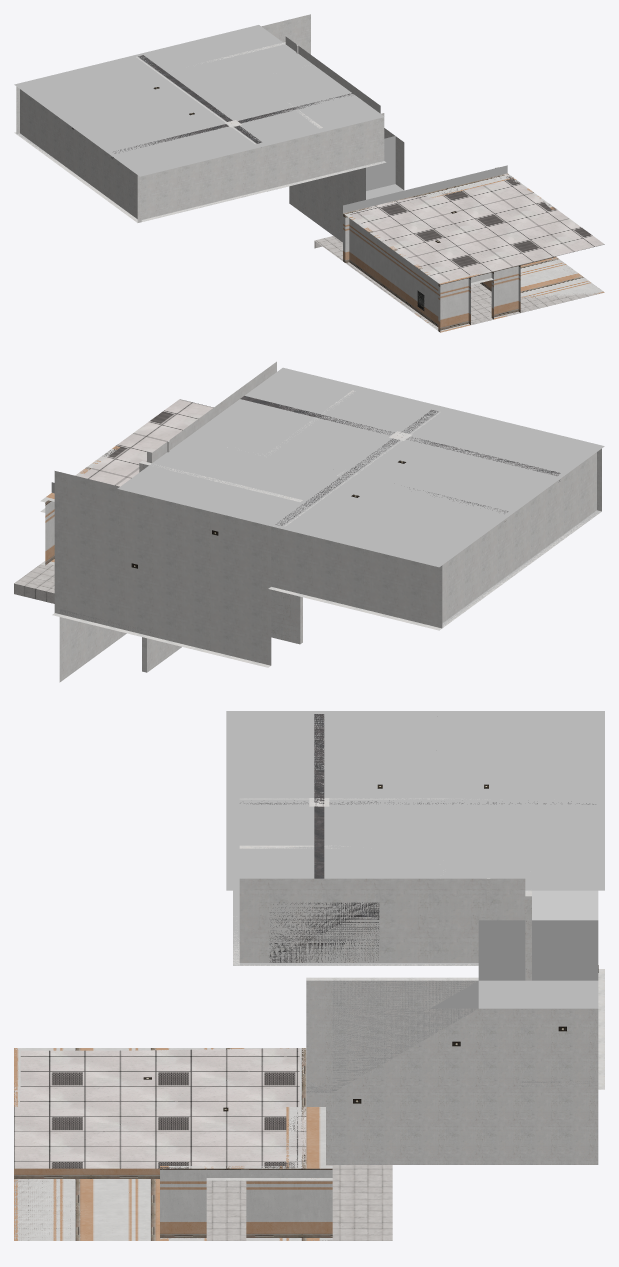
File: RZ_room2C_EC.gltf
3 views of the same model, one above another, from view 1: azimuth 30°, elevation 25°; view 2: azimuth 150°, elevation 25°; view 3: azimuth 270°, elevation 25° (orthographic). The views are drawn at different scales.
Parts seen in each view (by area): view 1: RZ_room2C_EC; view 2: RZ_room2C_EC; view 3: RZ_room2C_EC.
Part boxes in pixels (<box>): RZ_room2C_EC: <box>14,14,604,332</box>; RZ_room2C_EC: <box>14,361,604,682</box>; RZ_room2C_EC: <box>14,711,604,1240</box>.
Size of the model in its own units: 32.96 by 14.08 by 28.48.
